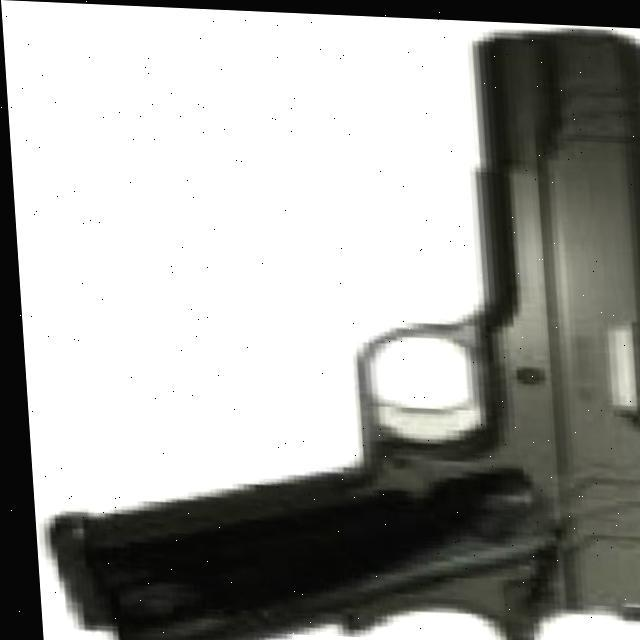gun: (7, 0, 640, 640)
